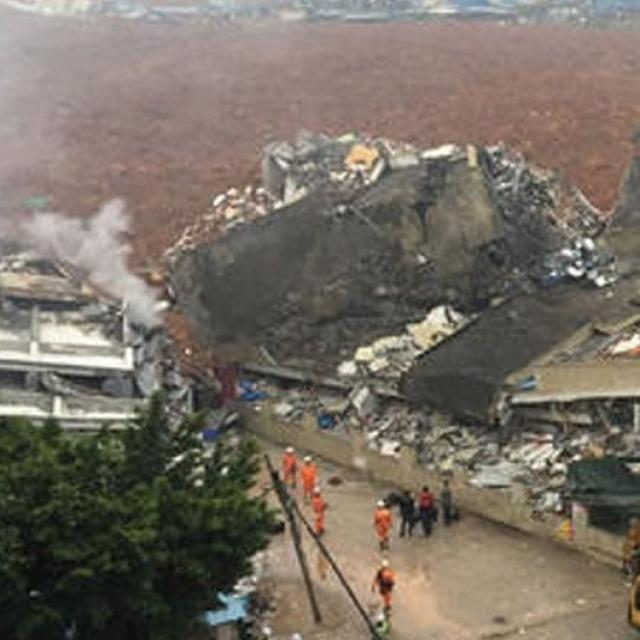collapsed_building: (185, 123, 562, 363), (2, 253, 163, 442)
